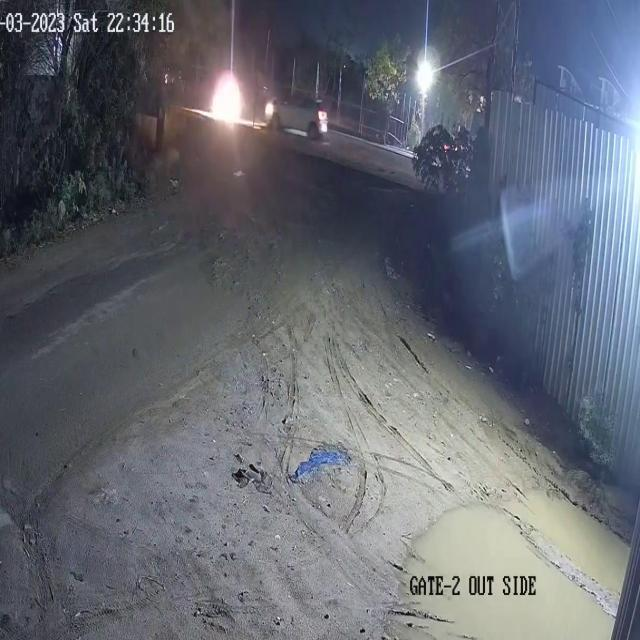accident: (211, 64, 330, 148)
